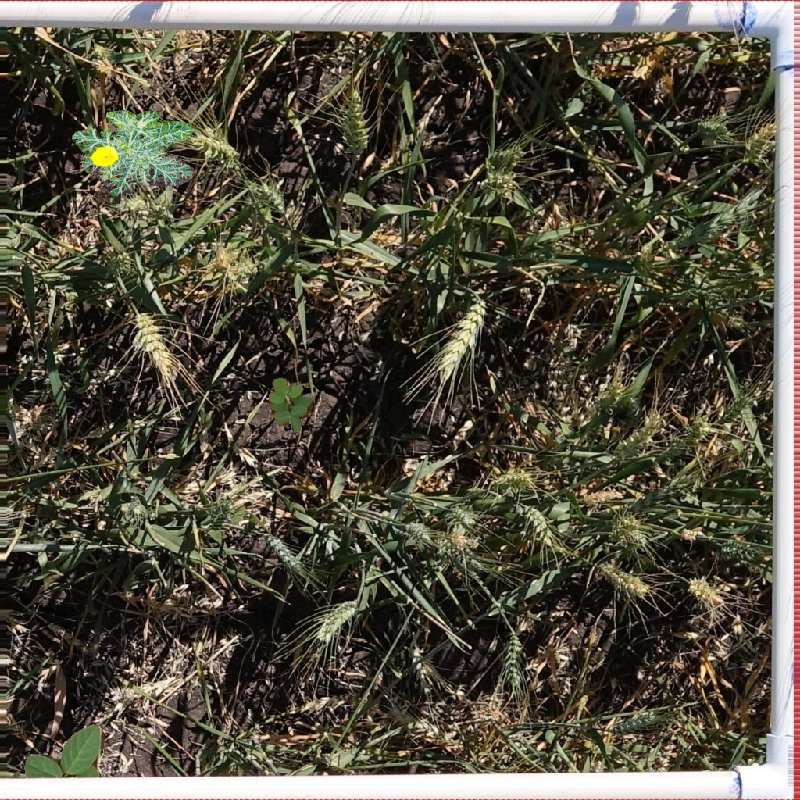spikelet: (431, 291, 490, 382), (129, 306, 179, 381), (610, 408, 665, 464), (336, 83, 373, 157), (190, 123, 243, 170), (310, 596, 361, 644), (262, 529, 309, 577), (598, 560, 651, 598), (496, 629, 528, 690), (510, 500, 555, 543), (741, 121, 777, 165), (609, 511, 649, 548), (248, 179, 287, 215), (720, 388, 756, 426), (717, 532, 760, 563), (694, 112, 732, 147), (112, 494, 150, 529), (493, 465, 537, 495), (592, 378, 627, 415), (686, 575, 725, 608), (617, 704, 660, 733), (201, 495, 237, 527), (444, 499, 481, 528), (487, 140, 526, 167), (399, 517, 435, 546), (480, 167, 517, 193), (682, 415, 714, 445), (114, 249, 133, 282)
weed: (72, 110, 196, 197), (24, 724, 105, 777), (269, 378, 313, 433)
